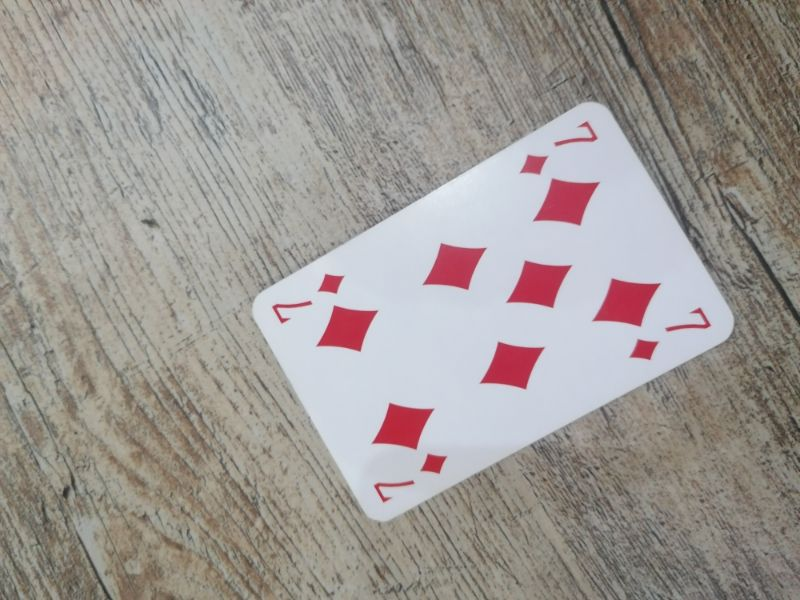7d: (515, 116, 602, 182), (626, 305, 714, 364), (268, 269, 349, 327), (371, 451, 450, 509)
